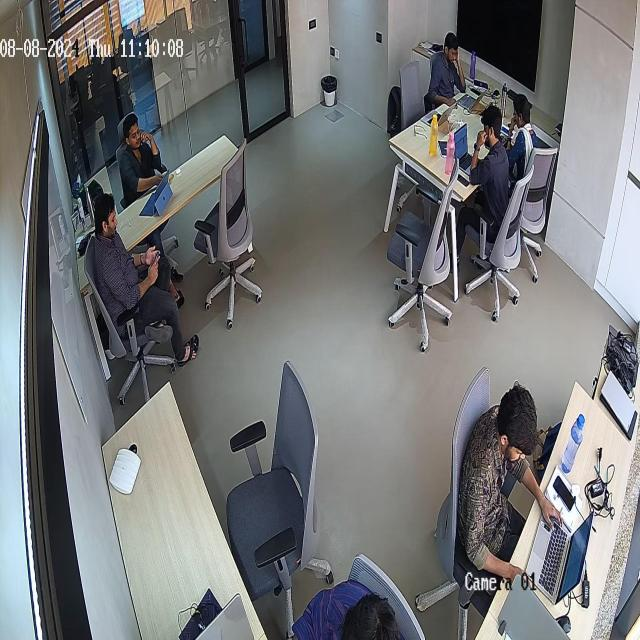chair: (219, 357, 324, 585), (388, 163, 462, 341), (199, 145, 265, 338), (472, 172, 529, 325), (519, 140, 560, 284)
laptop: (525, 503, 596, 620), (189, 582, 258, 640), (139, 162, 174, 222), (453, 122, 478, 173), (423, 95, 455, 130), (455, 83, 489, 113)
person: (452, 366, 584, 622), (82, 190, 191, 383), (264, 540, 438, 640), (456, 104, 514, 284), (428, 20, 487, 136), (484, 82, 540, 191), (112, 106, 176, 194)
phone: (549, 468, 580, 518), (449, 168, 471, 189), (149, 246, 161, 278), (138, 124, 148, 150)
